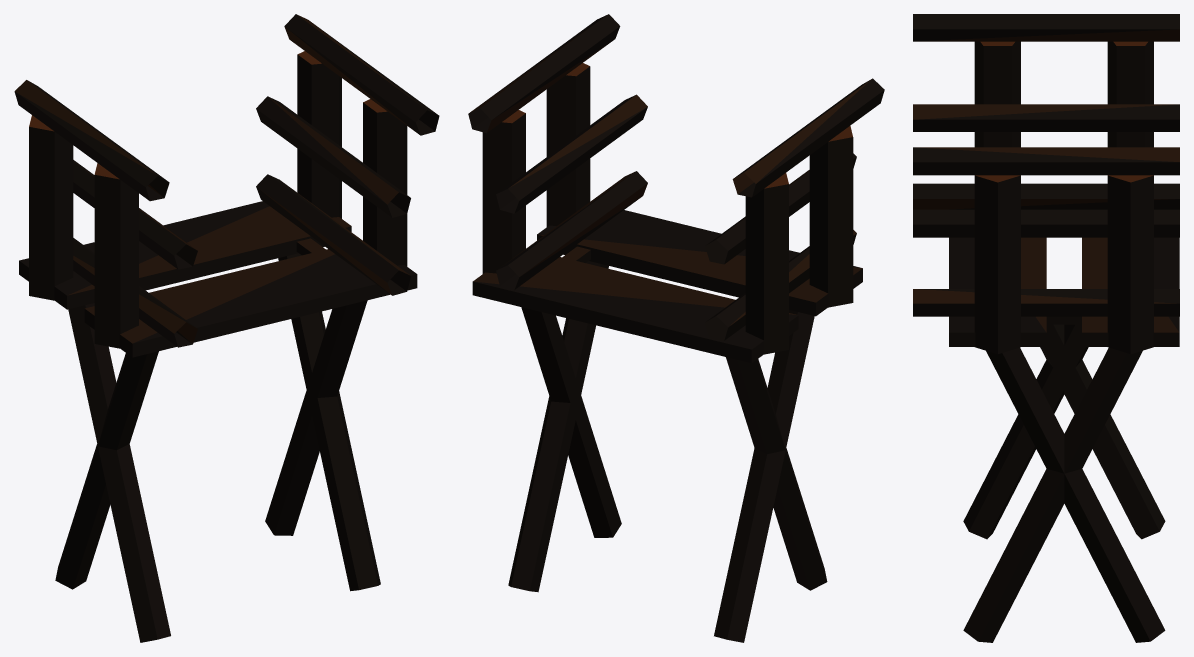
The model's file is Bridge_2_middle.fbx.
The picture shows the model from 3 angles, left to right: view 1: azimuth 30°, elevation 25°; view 2: azimuth 150°, elevation 25°; view 3: azimuth 270°, elevation 25°; orthographic projection. The views are drawn at different scales.
Parts seen in each view (by area): view 1: Bridge_2_middle; view 2: Bridge_2_middle; view 3: Bridge_2_middle.
Boxes of the visible parts, left/top/right/bottom form: Bridge_2_middle: left=14, top=14, right=439, bottom=642; Bridge_2_middle: left=468, top=14, right=884, bottom=642; Bridge_2_middle: left=913, top=14, right=1179, bottom=642.
Size of the model in its own units: 245 by 375 by 179.
